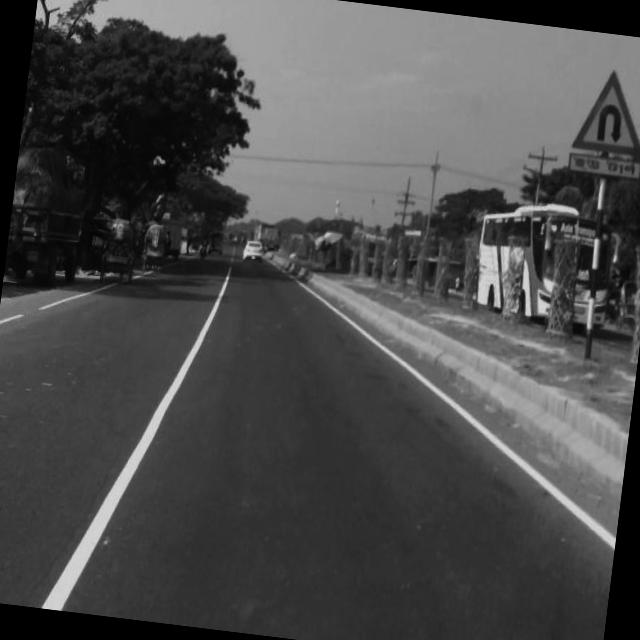bus: (465, 192, 618, 331)
car: (237, 234, 265, 261)
motorcycle: (95, 214, 140, 283), (137, 218, 170, 278), (609, 275, 640, 334), (196, 231, 208, 256)
truck: (4, 200, 86, 286)
